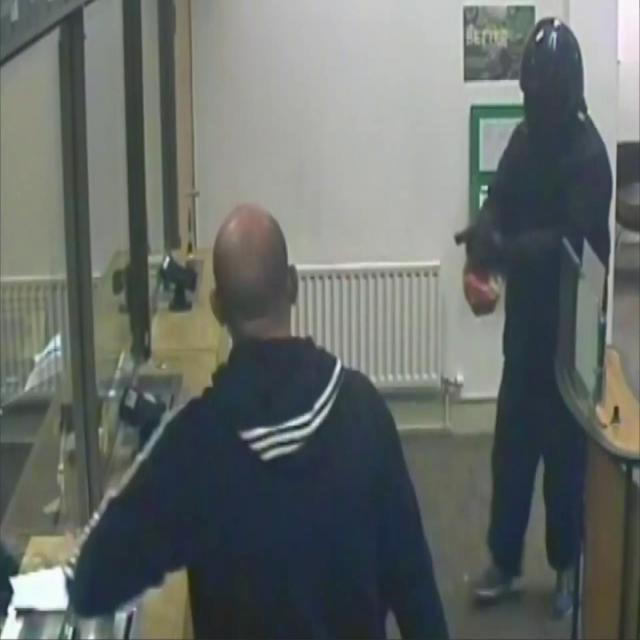weapon: (452, 218, 497, 252)
